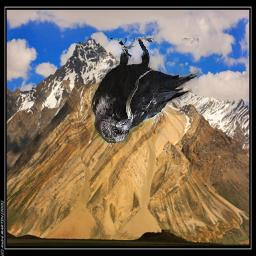Crow: (91, 39, 199, 144)
